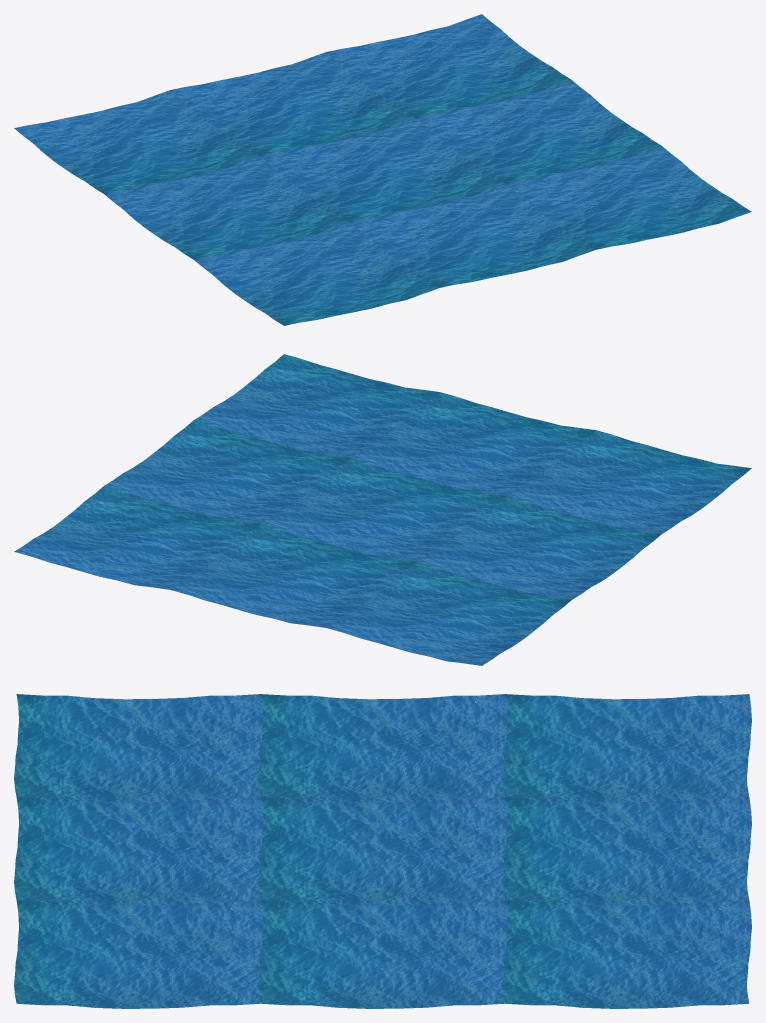
File: ocean_000183.obj
The picture shows the model from 3 angles, top to bottom: view 1: azimuth 30°, elevation 25°; view 2: azimuth 150°, elevation 25°; view 3: azimuth 270°, elevation 25°; orthographic projection. The views are drawn at different scales.
Visible parts, largest first — view 1: Ocean_Plan.001; view 2: Ocean_Plan.001; view 3: Ocean_Plan.001.
Boxes of the visible parts, left/top/right/bottom form: Ocean_Plan.001: left=14, top=14, right=751, bottom=325; Ocean_Plan.001: left=14, top=354, right=751, bottom=665; Ocean_Plan.001: left=14, top=694, right=751, bottom=1008.
Bounding box in the file's own units: 109045 × 1786 × 109736.
1 material, 1 textured.
